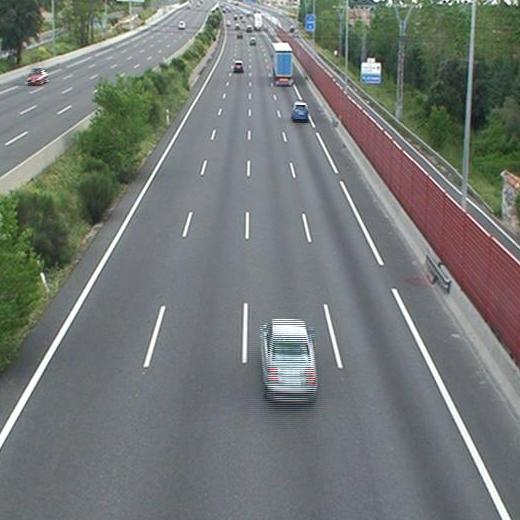car: (261, 321, 318, 399), (292, 102, 308, 121), (233, 61, 242, 72)
truck: (273, 43, 292, 86)
